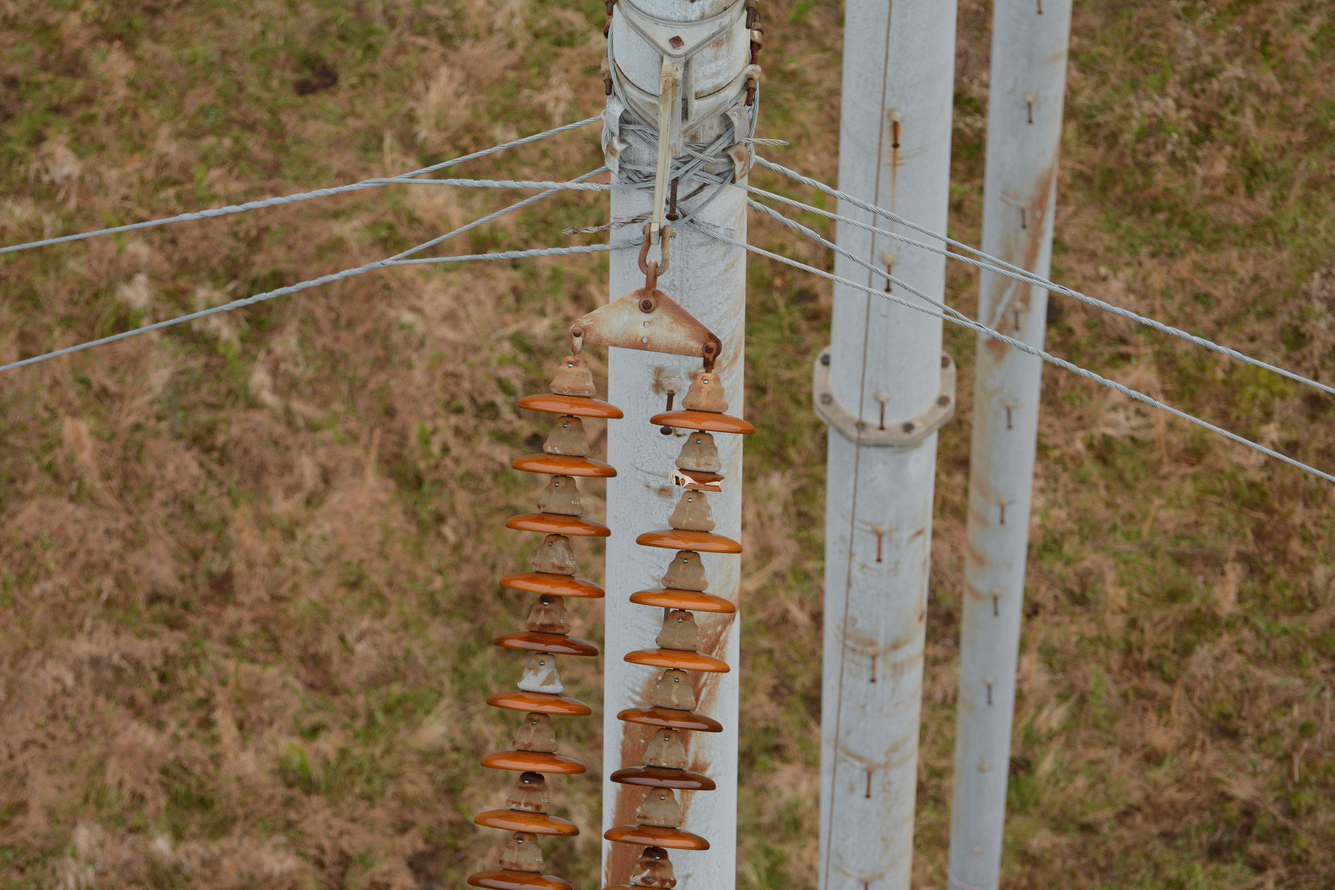damaged: (662, 439, 733, 511)
insulator: (461, 383, 620, 890), (603, 382, 755, 888)
